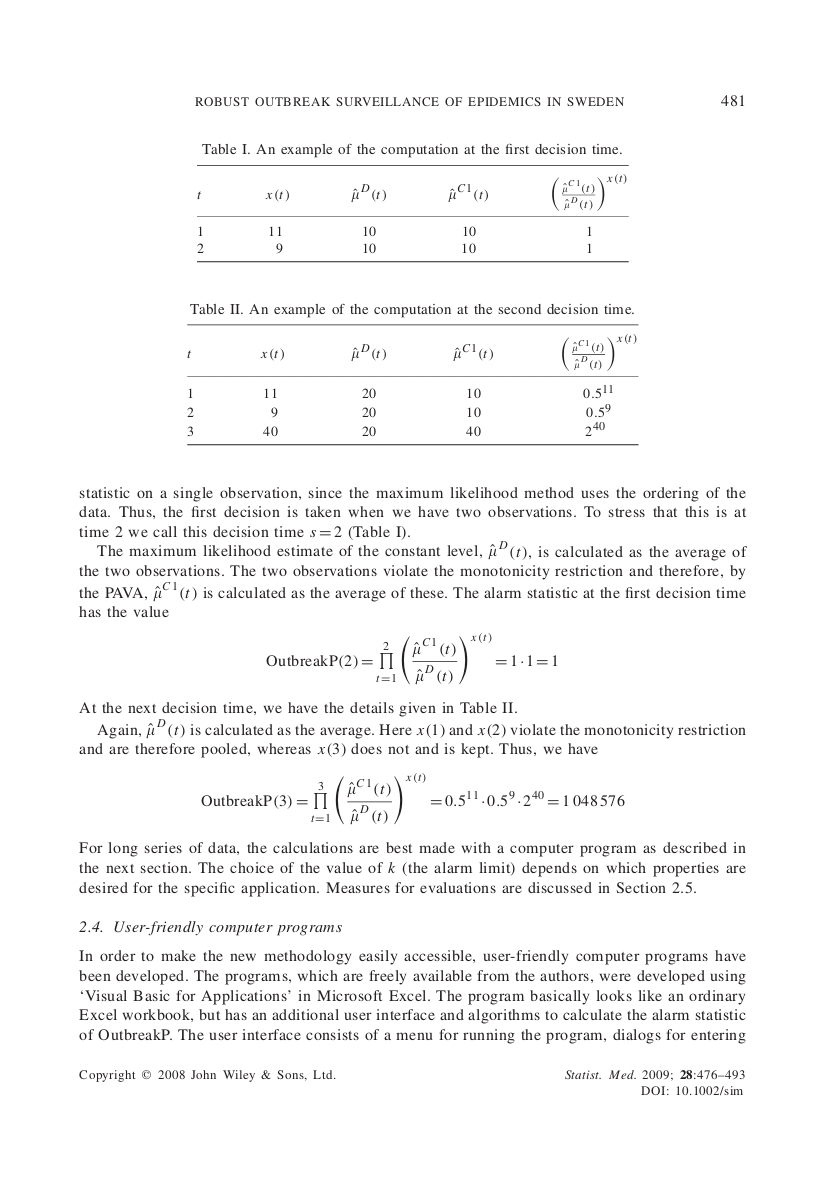Table: (187, 324, 638, 445), (197, 165, 628, 262)
formula: (201, 772, 624, 825), (266, 632, 557, 685)
